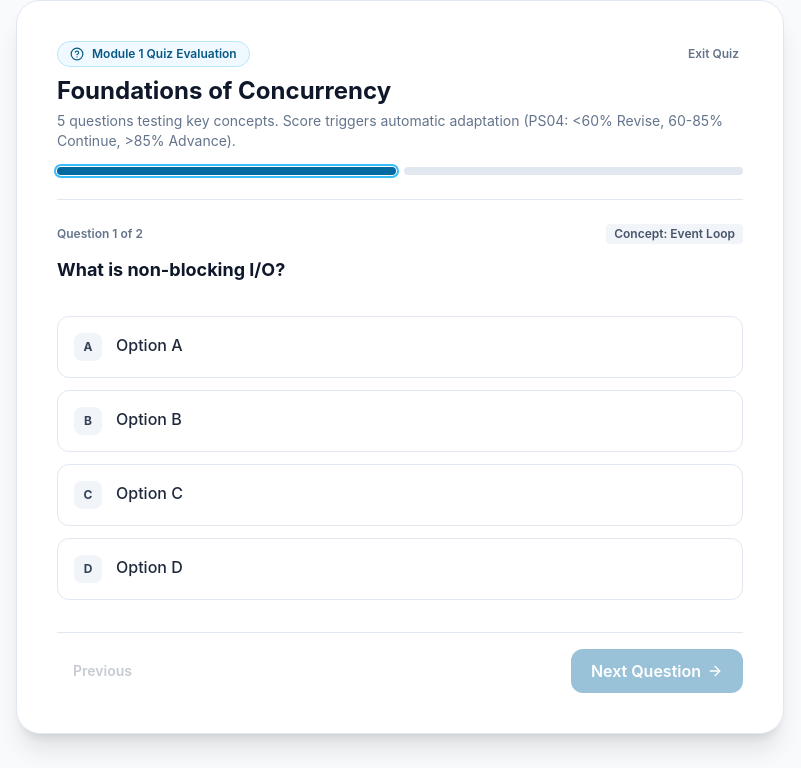
Test: QuizView Component › allows answering questions and reveals review summary upon submission
Later steps or results of the test are not shown.
Note: Answer Q1 with Option A (correctIndex 0)
What coordinates should you click on to do the following:
click the text "Option A"
I would click on:
 (149, 345)
Its box is [116,333,182,357].
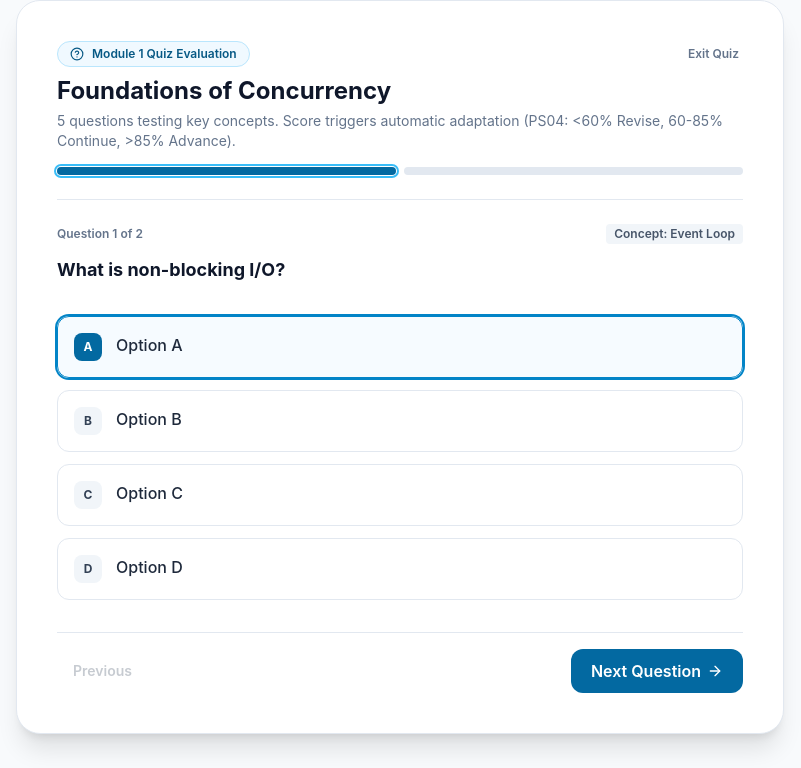
Note: Move to next question
What coordinates should you click on to do the following:
click the button "Next Question"
I would click on:
 (657, 671)
Its box is [571,649,743,693].
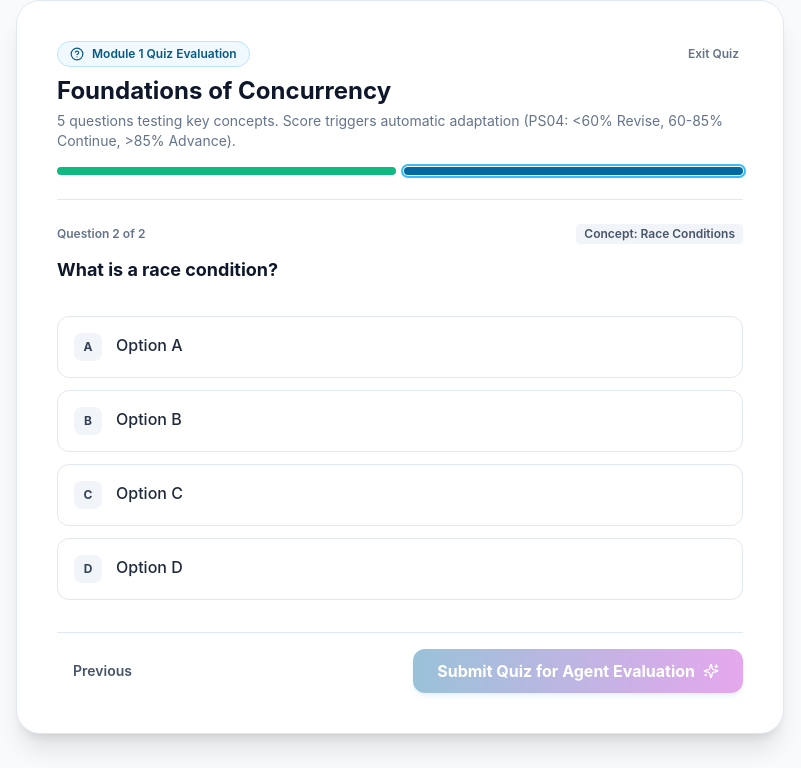
Note: Answer Q2 with Option B (correctIndex 1)
What coordinates should you click on to do the following:
click the text "Option B"
I would click on:
 (149, 419)
Its box is [116,407,182,431].
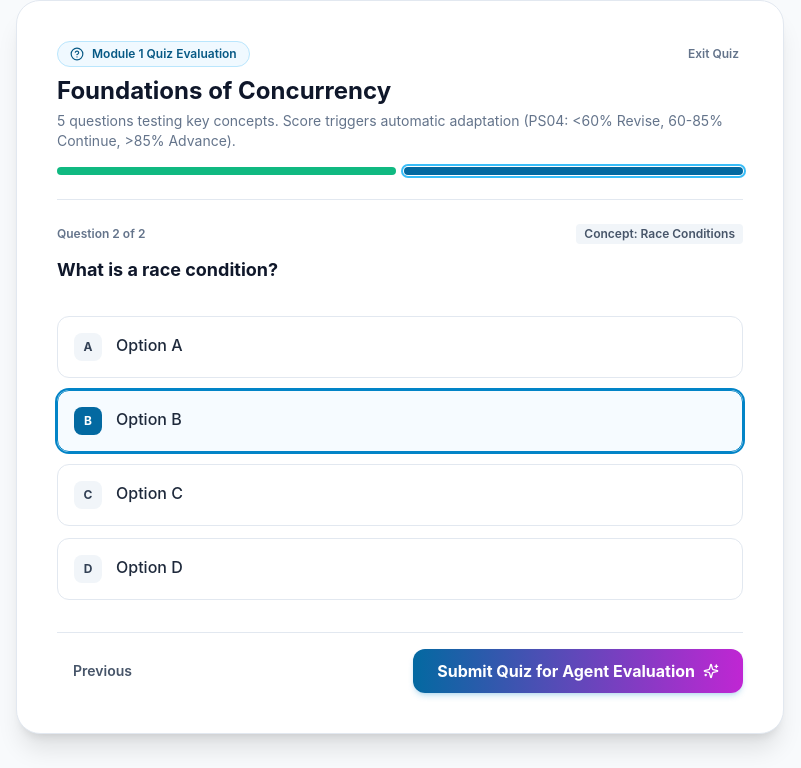
What coordinates should you click on to do the following:
click the button "Submit Quiz for Agent Evaluation"
I would click on:
 (578, 671)
Its box is [413,649,743,693].
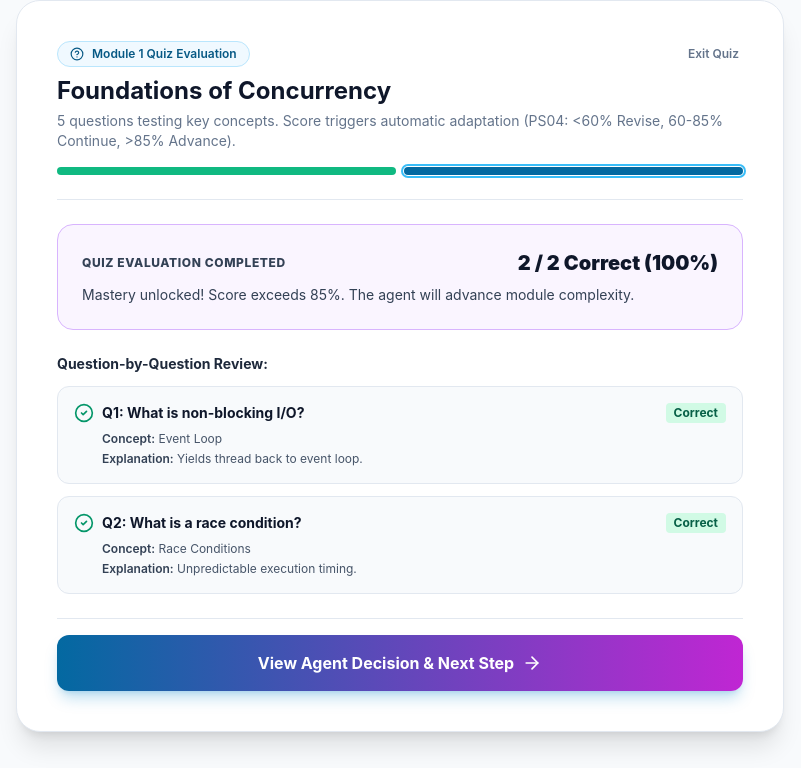
Check: the text "Quiz Evaluation Completed" is shown, box [82,255,286,271]
Check: the text "2 / 2 Correct (100%)" is shown, box [518,249,718,277]
